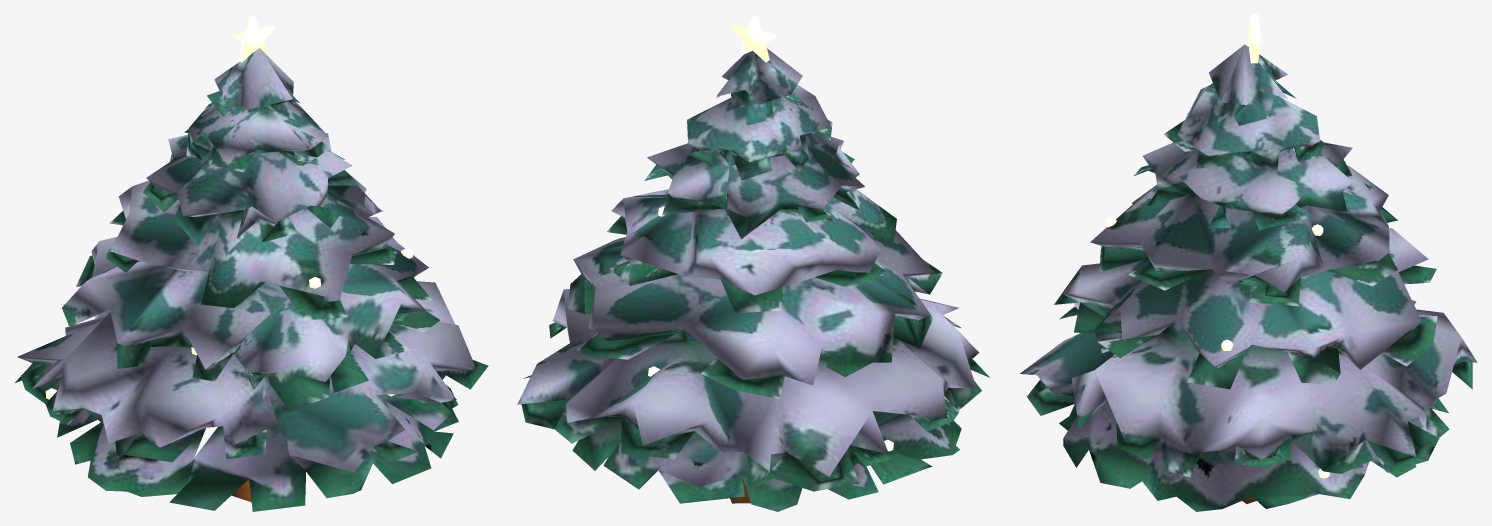
File: SM_Tree_Snowy_Xmas.glb
3 renders of one model, left to right at view 1: azimuth 30°, elevation 25°; view 2: azimuth 150°, elevation 25°; view 3: azimuth 270°, elevation 25°, orthographic.
Parts seen in each view (by area): view 1: SM_Tree_Snowy_Xmas, glow; view 2: SM_Tree_Snowy_Xmas, glow; view 3: SM_Tree_Snowy_Xmas, glow.
Boxes of the visible parts, x1,y1,x2,y2 form: SM_Tree_Snowy_Xmas: (15,48,488,511); glow: (45,14,412,399); SM_Tree_Snowy_Xmas: (517,48,989,511); glow: (621,14,893,451); SM_Tree_Snowy_Xmas: (1020,44,1477,511); glow: (1105,14,1329,478).
Size of what is drawn, in the model's own units: 5.69 by 6.39 by 5.62.
2 materials, 1 textured.
